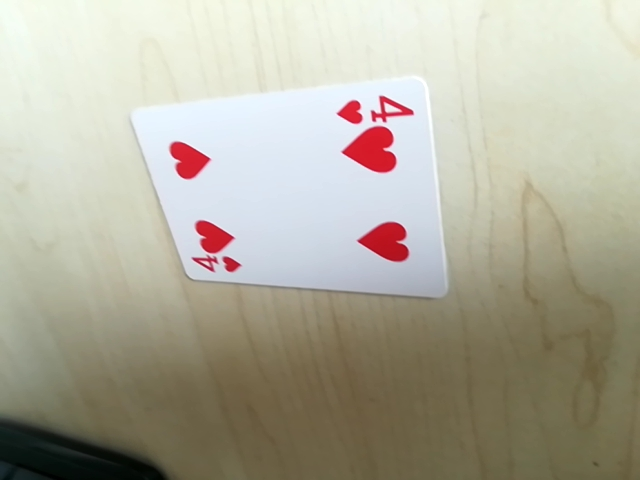hx 4: (334, 87, 417, 128), (186, 250, 247, 282)
